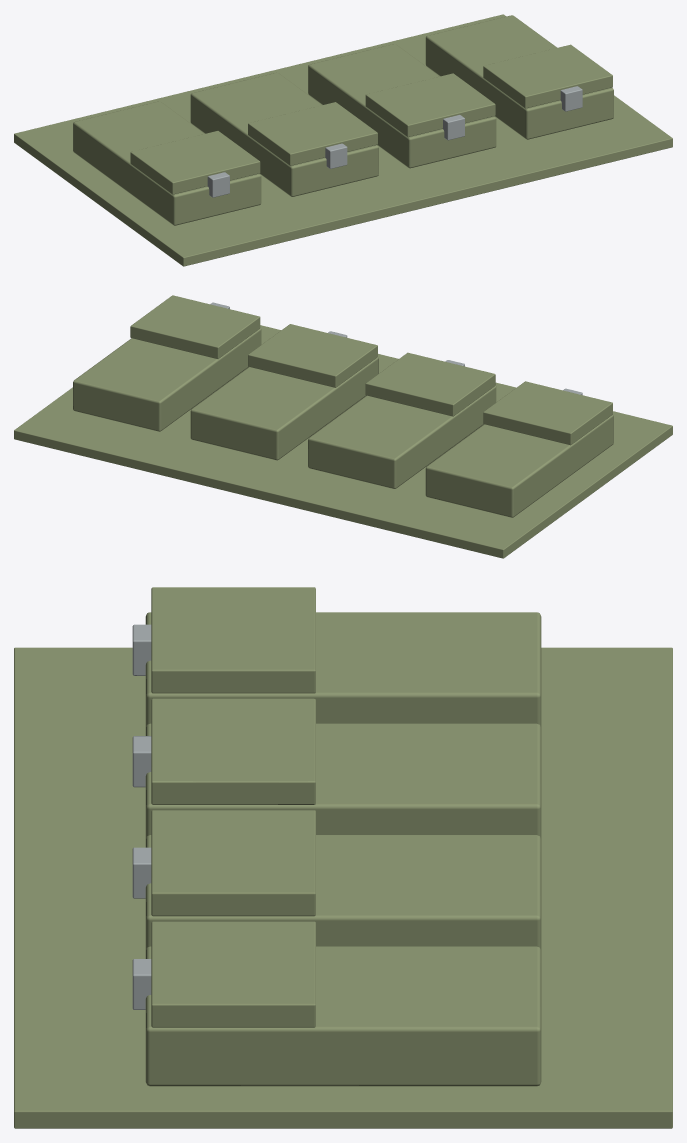
File: field-medicine-and-recovery-rollout-medic-bag-ead0fdbb__3033.glb
3 renders of one model, top to bottom at view 1: azimuth 30°, elevation 25°; view 2: azimuth 150°, elevation 25°; view 3: azimuth 270°, elevation 25°, orthographic. The views are drawn at different scales.
Parts seen in each view (by area): view 1: rollout-medic-bag; view 2: rollout-medic-bag; view 3: rollout-medic-bag.
Part boxes in pixels (x1=…): rollout-medic-bag: x1=14, y1=14, x2=672, y2=266; rollout-medic-bag: x1=14, y1=295, x2=672, y2=558; rollout-medic-bag: x1=14, y1=587, x2=672, y2=1128.
Bounding box in the file's own units: 0.5 × 0.051 × 0.3.
